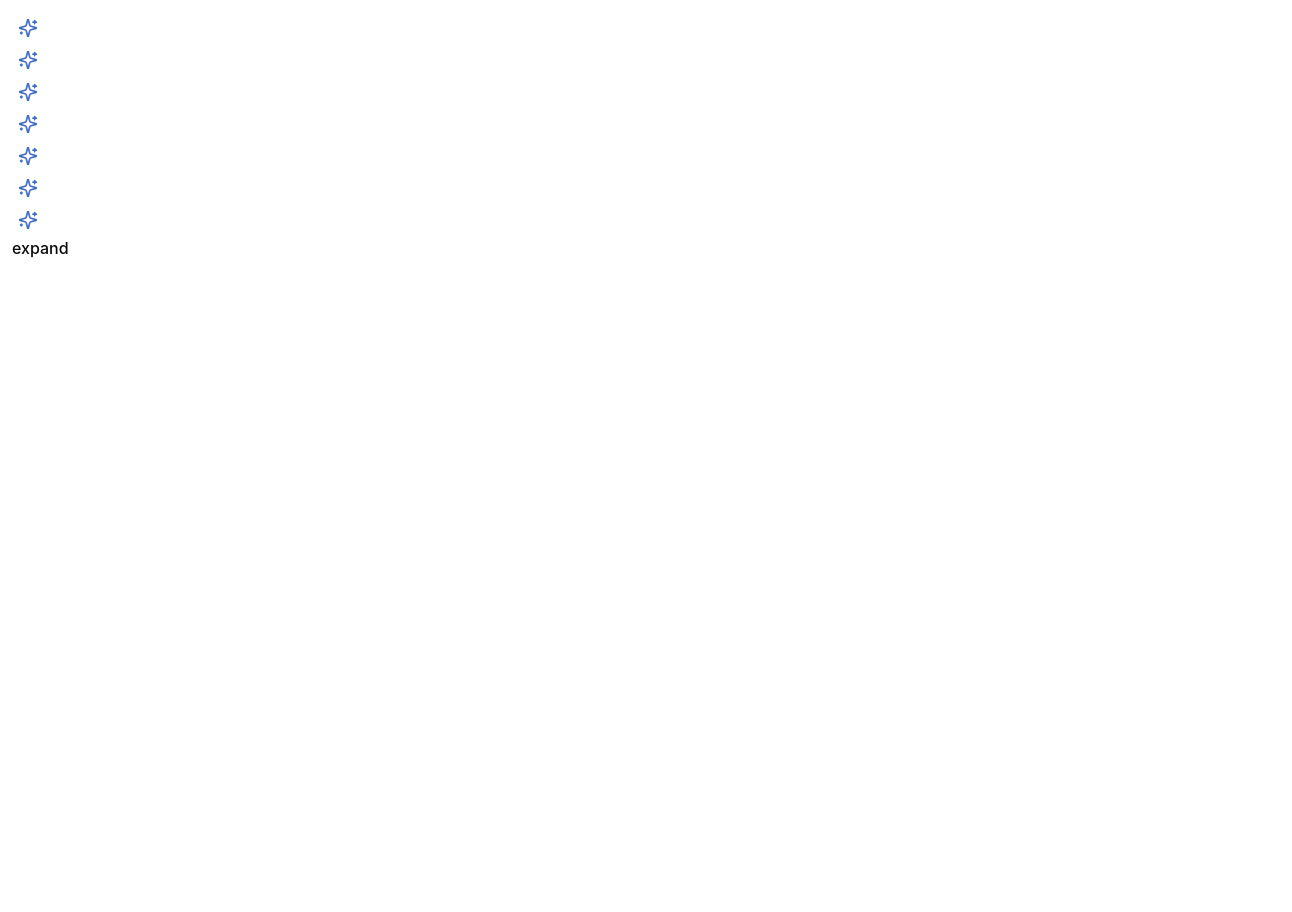
Scenario: AiAssistantHost › opens the panel primed with the scope prompt
The image size is (1292, 912).
Click the button named "open-setup" at [28, 28], box x1=12 y1=12 x2=44 y2=44
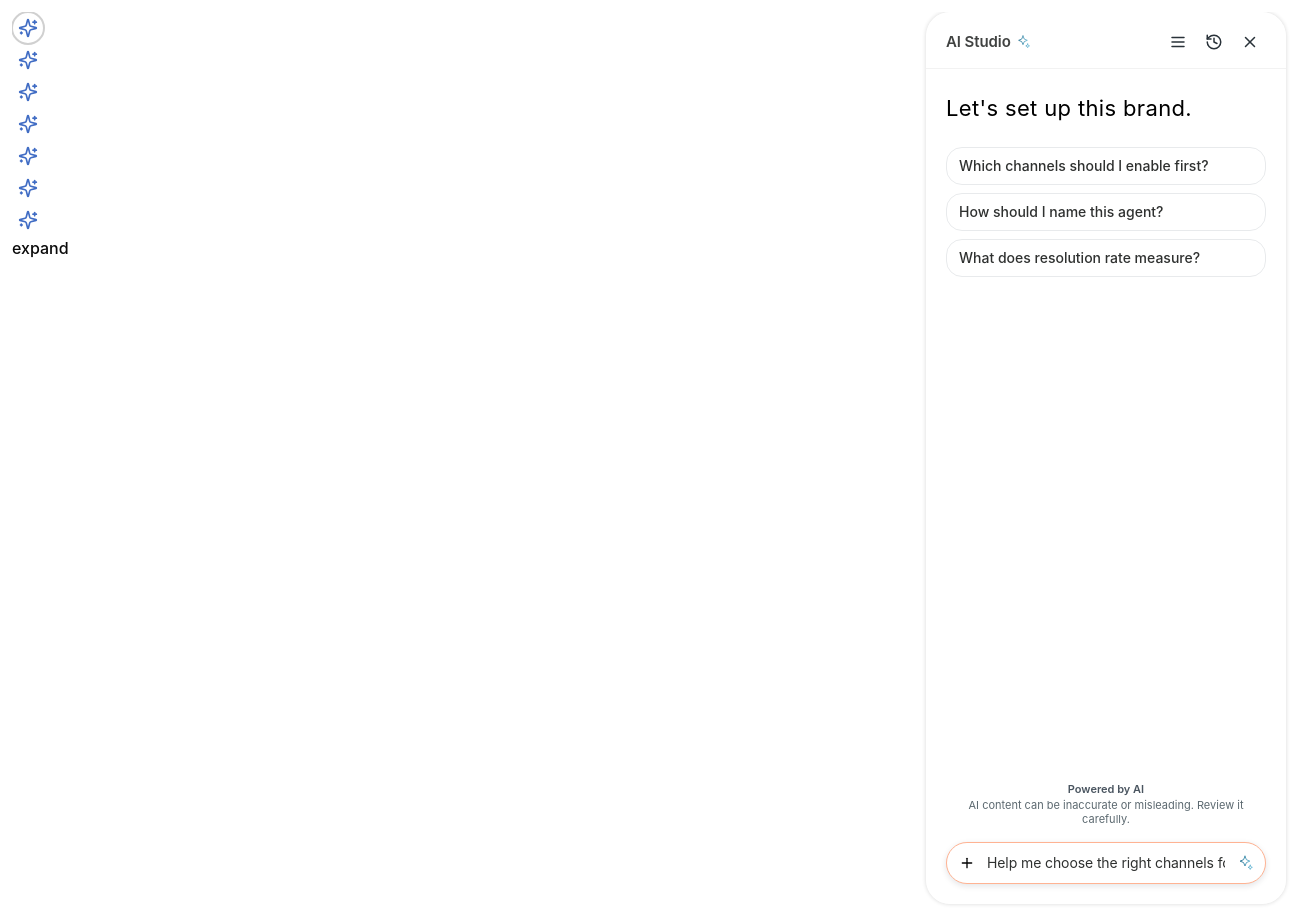
Expected: the element with test id "ai-studio-panel" is shown, x1=926 y1=12 x2=1286 y2=904
Expected: the field holds "Help me choose the right channels for this brand", x1=987 y1=853 x2=1225 y2=873
